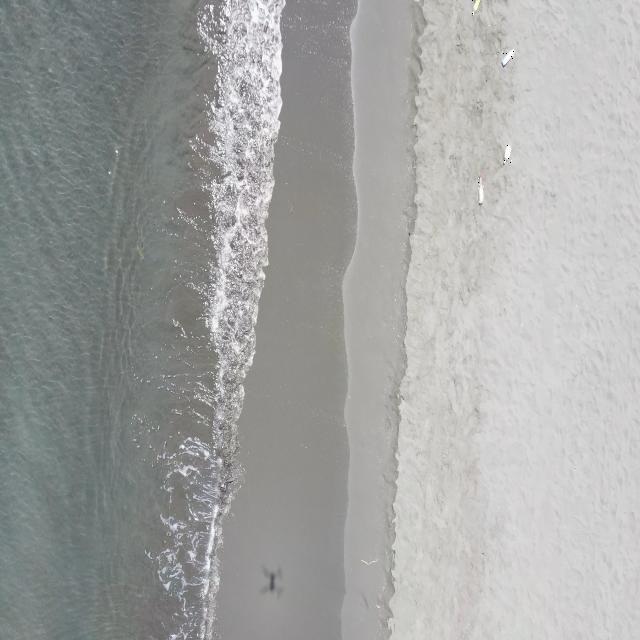Garbage: (500, 48, 513, 65), (477, 176, 483, 203), (503, 143, 511, 163), (472, 0, 480, 13)
